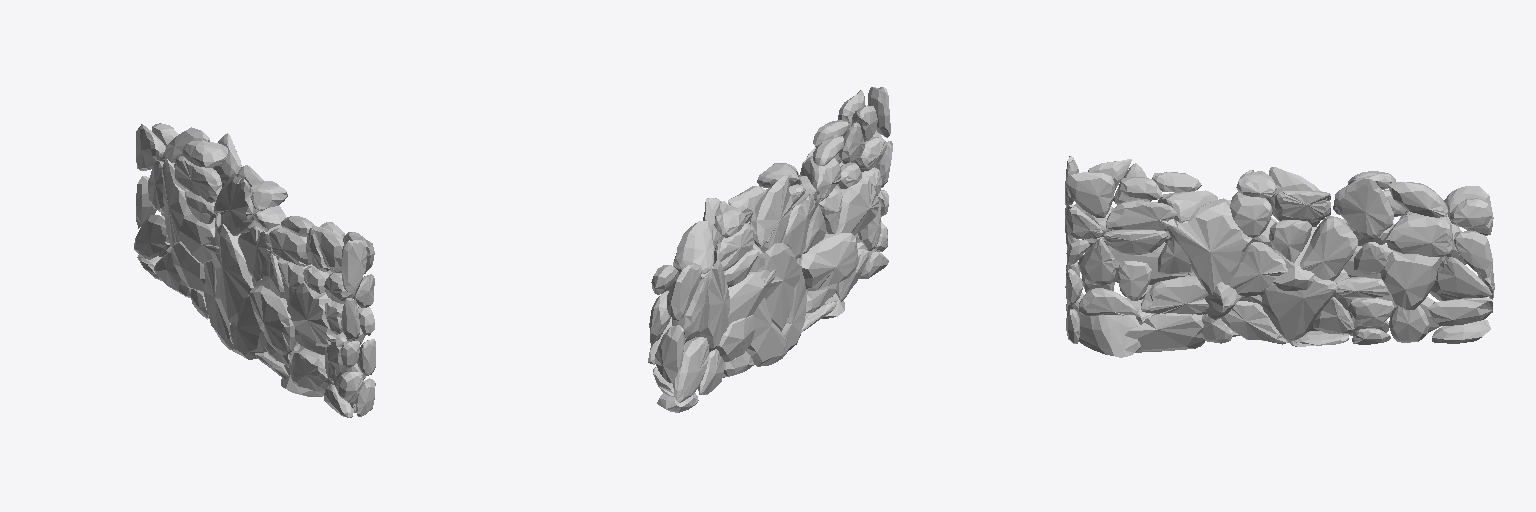
File: stonewall.obj
3 renders of one model, left to right at view 1: azimuth 30°, elevation 25°; view 2: azimuth 150°, elevation 25°; view 3: azimuth 270°, elevation 25°, orthographic.
Visible parts, largest first — view 1: Cube_cell.075, Cube_cell.095, Cube_cell.020, Cube_cell.003, Cube_cell.081, Cube_cell.055, Cube_cell.007, Cube_cell.070, Cube_cell.056, Cube_cell.016, Cube_cell.018, Cube_cell (+22 smaller); view 2: Cube_cell.095, Cube_cell.075, Cube_cell.003, Cube_cell.020, Cube_cell.055, Cube_cell.056, Cube_cell.025, Cube_cell, Cube_cell.016, Cube_cell.068, Cube_cell.059, Cube_cell.018 (+21 smaller); view 3: Cube_cell.082, Cube_cell.017, Cube_cell.064, Cube_cell.002, Cube_cell.066, Cube_cell.024, Cube_cell.001, Cube_cell.010, Cube_cell.041, Cube_cell.014, Cube_cell.039, Cube_cell.072 (+28 smaller).
Part boxes in pixels (left/top/right/bottom): Cube_cell.075: left=206, top=224, right=253, bottom=322; Cube_cell.095: left=249, top=286, right=297, bottom=355; Cube_cell.020: left=287, top=283, right=348, bottom=346; Cube_cell.003: left=214, top=176, right=255, bottom=235; Cube_cell.081: left=230, top=278, right=266, bottom=359; Cube_cell.055: left=162, top=157, right=191, bottom=247; Cube_cell.007: left=174, top=156, right=221, bottom=202; Cube_cell.070: left=291, top=351, right=333, bottom=393; Cube_cell.056: left=204, top=261, right=233, bottom=349; Cube_cell.016: left=179, top=214, right=219, bottom=263; Cube_cell.018: left=238, top=226, right=271, bottom=281; Cube_cell: left=134, top=215, right=169, bottom=259; Cube_cell.095: left=801, top=233, right=858, bottom=290; Cube_cell.075: left=760, top=243, right=801, bottom=331; Cube_cell.003: left=749, top=175, right=792, bottom=250; Cube_cell.020: left=826, top=174, right=878, bottom=235; Cube_cell.055: left=695, top=260, right=729, bottom=351; Cube_cell.056: left=746, top=298, right=786, bottom=366; Cube_cell.025: left=673, top=220, right=713, bottom=273; Cube_cell: left=673, top=337, right=709, bottom=402; Cube_cell.016: left=727, top=269, right=776, bottom=327; Cube_cell.068: left=655, top=325, right=684, bottom=383; Cube_cell.059: left=667, top=265, right=701, bottom=320; Cube_cell.018: left=781, top=193, right=814, bottom=259; Cube_cell.082: left=1165, top=198, right=1251, bottom=295; Cube_cell.017: left=1261, top=276, right=1336, bottom=343; Cube_cell.064: left=1334, top=177, right=1393, bottom=239; Cube_cell.002: left=1381, top=251, right=1444, bottom=309; Cube_cell.066: left=1300, top=216, right=1357, bottom=280; Cube_cell.024: left=1125, top=313, right=1204, bottom=352; Cube_cell.001: left=1386, top=212, right=1452, bottom=256; Cube_cell.010: left=1076, top=307, right=1140, bottom=357; Cube_cell.041: left=1141, top=275, right=1208, bottom=314; Cube_cell.014: left=1229, top=242, right=1287, bottom=296; Cube_cell.039: left=1106, top=199, right=1177, bottom=230; Cube_cell.072: left=1068, top=172, right=1114, bottom=217.
Bounding box in the file's own units: 3.29 × 9.69 × 19.94.